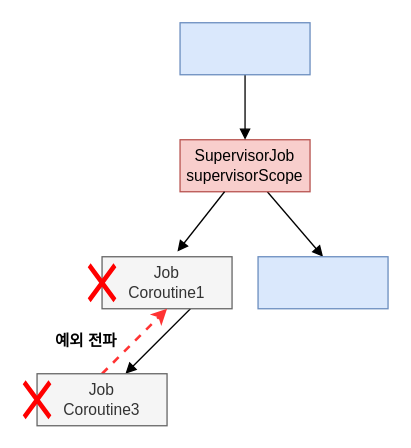
Image size: 411x448. Some labels were removed from this diagram. Each missing label, with the centre of its shape:
Job Coroutine2: point (322, 282)
Job runBlocking: point (244, 48)
